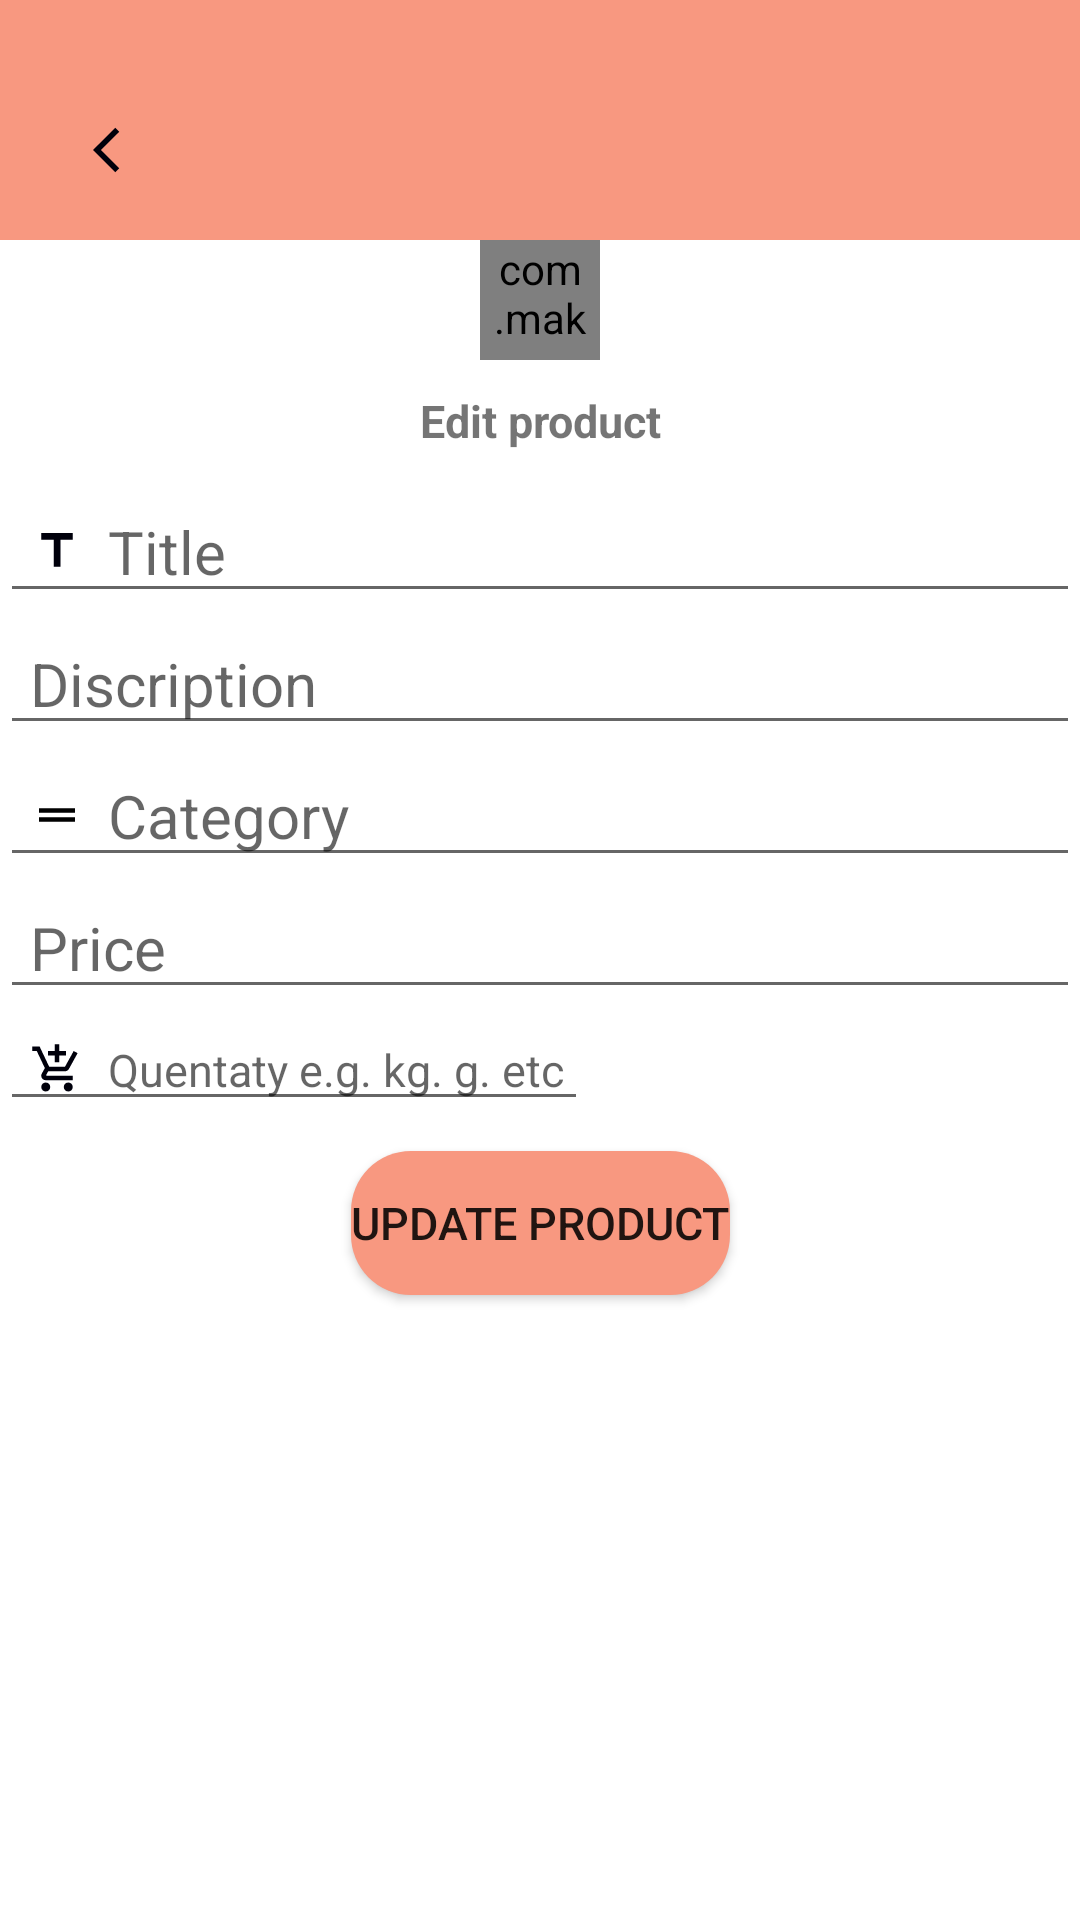

Named icons in this screenshot (1080w x 1920h) and their centers, (x=x, y=y):
back: (x=106, y=150)
